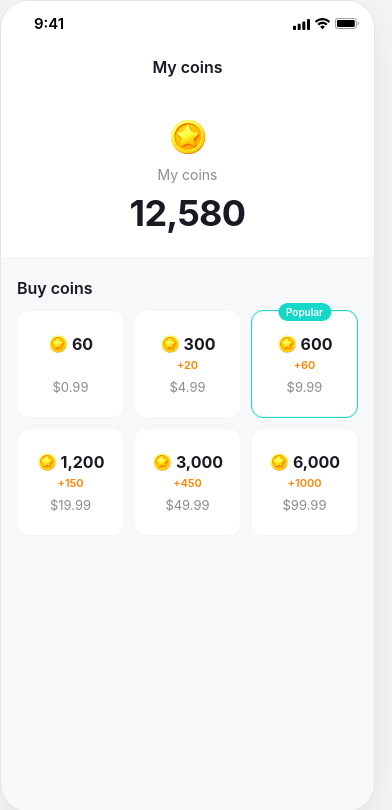
Test: WalletPagePrototype › opens system purchase when tapping a sku
The image size is (392, 810).
Click the button "1,200 +150 $19.99": {"x": 70, "y": 482} [17,428,124,536]
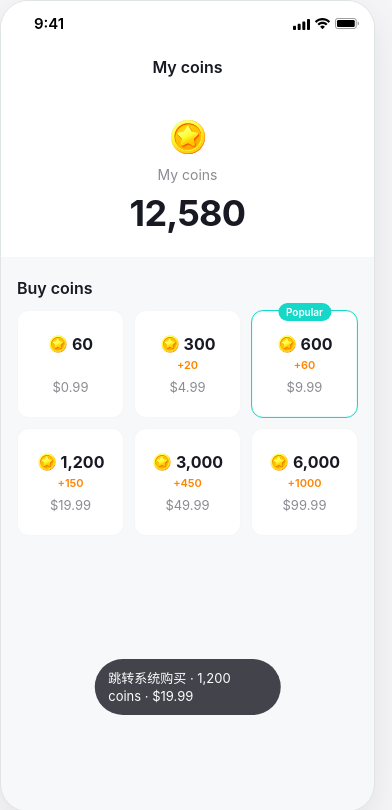
expect the message reads "跳转系统购买 · 1,200 coins · $19.99": met, box [108,670,231,704]
